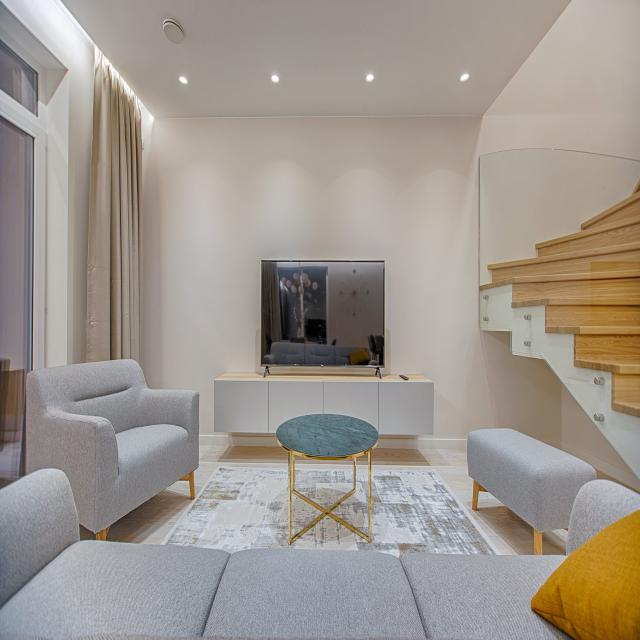floor: (106, 445, 534, 555), (294, 455, 354, 509), (330, 453, 369, 536), (291, 454, 324, 538), (542, 533, 566, 555), (79, 524, 96, 540)
